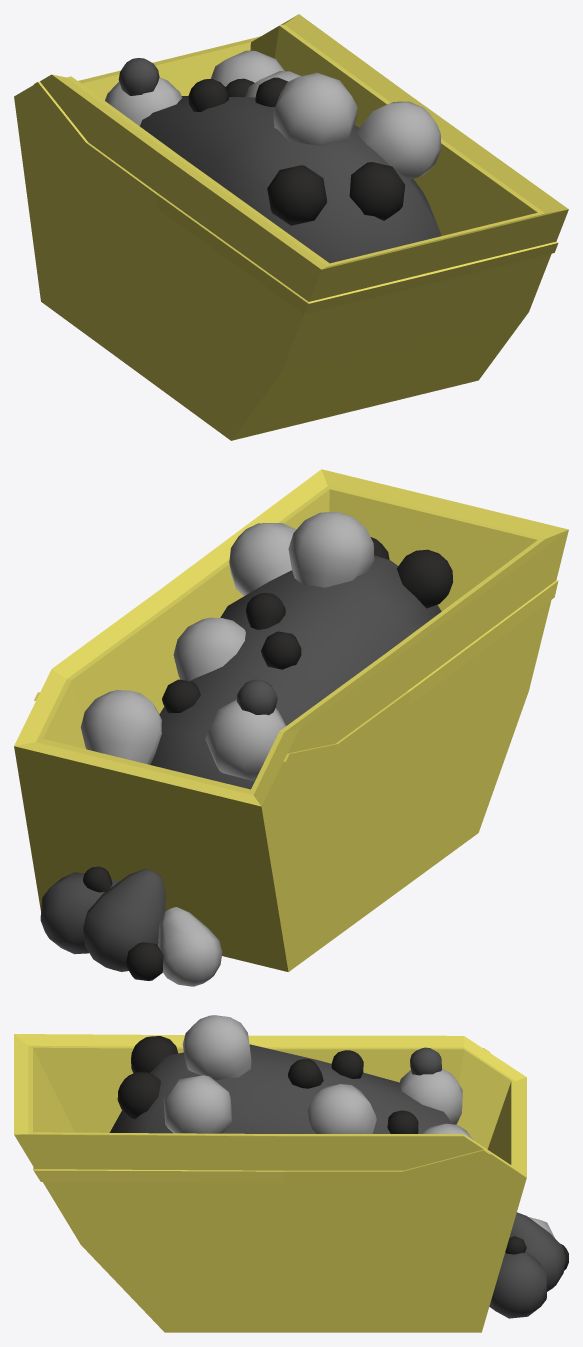
File: InvertedCacanba.fbx
3 renders of one model, top to bottom at view 1: azimuth 30°, elevation 25°; view 2: azimuth 150°, elevation 25°; view 3: azimuth 270°, elevation 25°, orthographic. The views are drawn at different scales.
Parts seen in each view (by area): view 1: Cacanba; view 2: Cacanba; view 3: Cacanba.
Part boxes in pixels (left/top/right/bottom): Cacanba: left=14, top=14, right=568, bottom=440; Cacanba: left=14, top=469, right=568, bottom=986; Cacanba: left=14, top=1015, right=568, bottom=1332.
Size of the model in its own units: 221 by 269 by 505.
